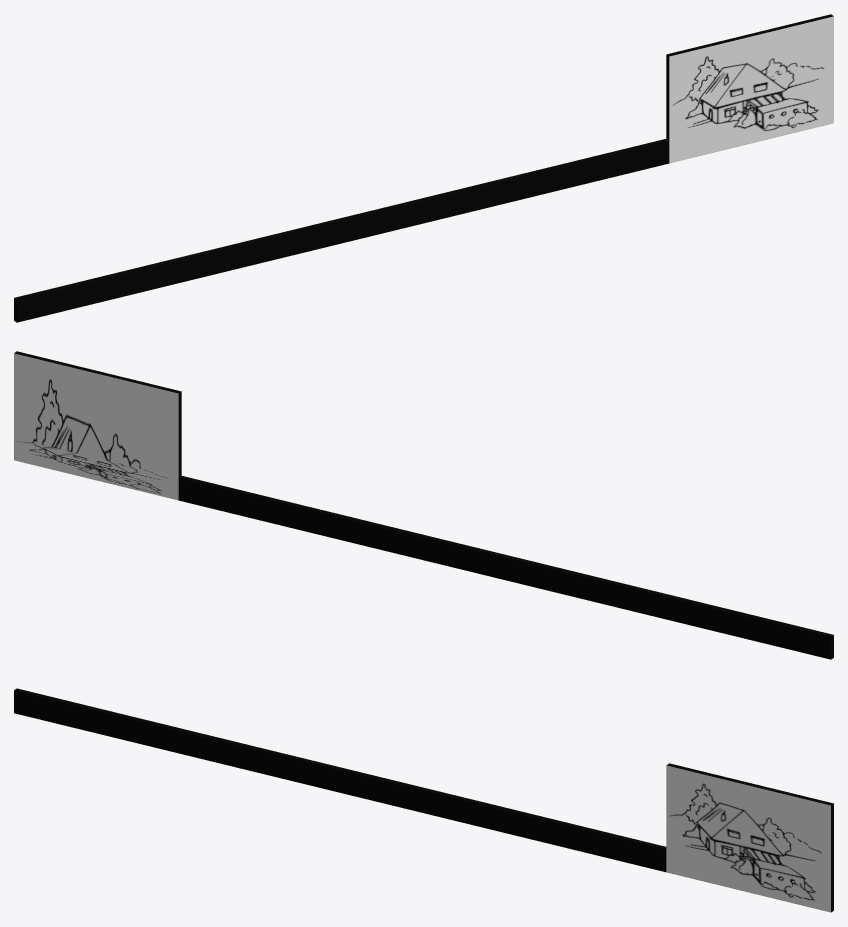
File: menu.obj
3 renders of one model, top to bottom at view 1: azimuth 30°, elevation 25°; view 2: azimuth 150°, elevation 25°; view 3: azimuth 330°, elevation 25°, orthographic.
Parts seen in each view (by area): view 1: Cube; view 2: Cube; view 3: Cube.
Part boxes in pixels (x1,y1,x2,y2): Cube: (14, 14, 833, 322); Cube: (14, 351, 833, 659); Cube: (14, 688, 833, 912).
Size of the model in its own units: 15.98 by 2 by 0.0972.
